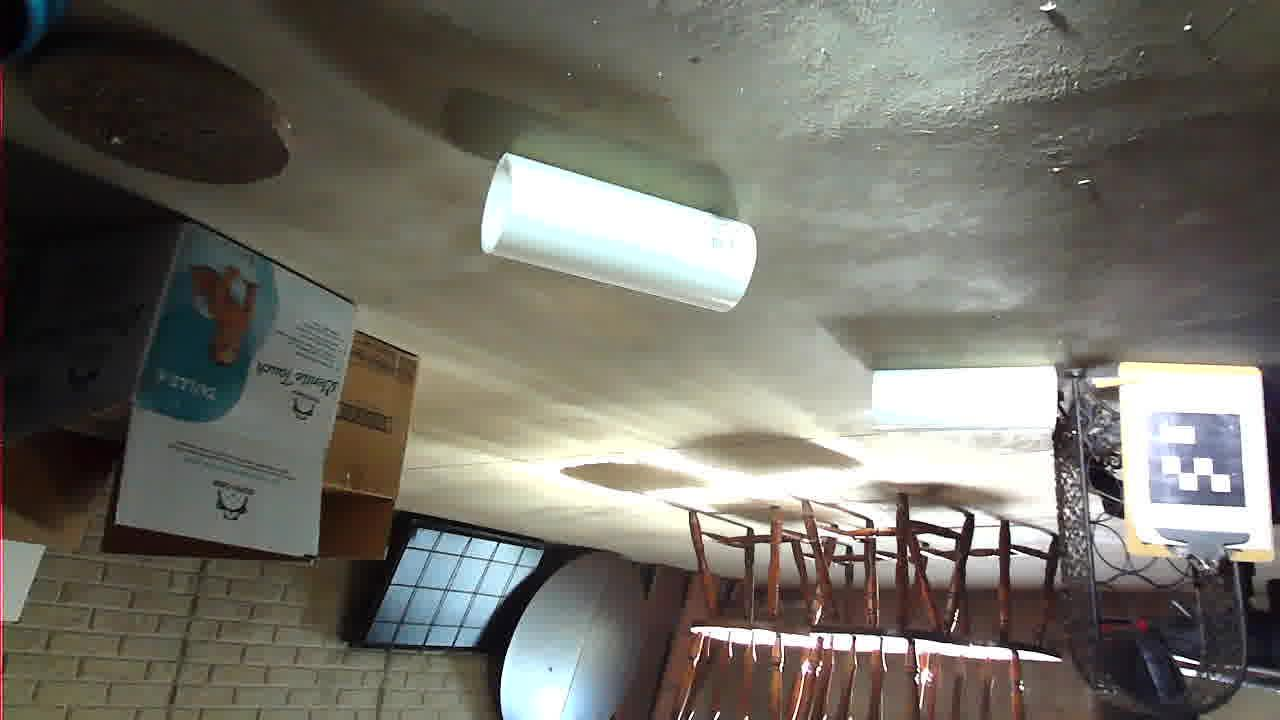coral: (517, 401, 804, 572)
